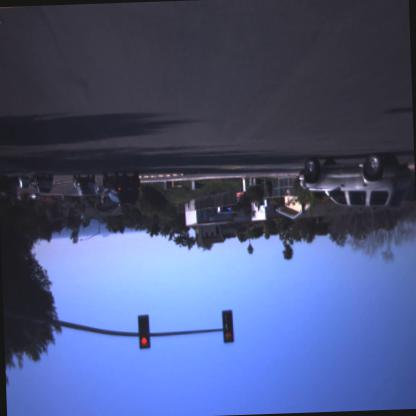trafficlight: (134, 309, 152, 353), (220, 308, 236, 347)
